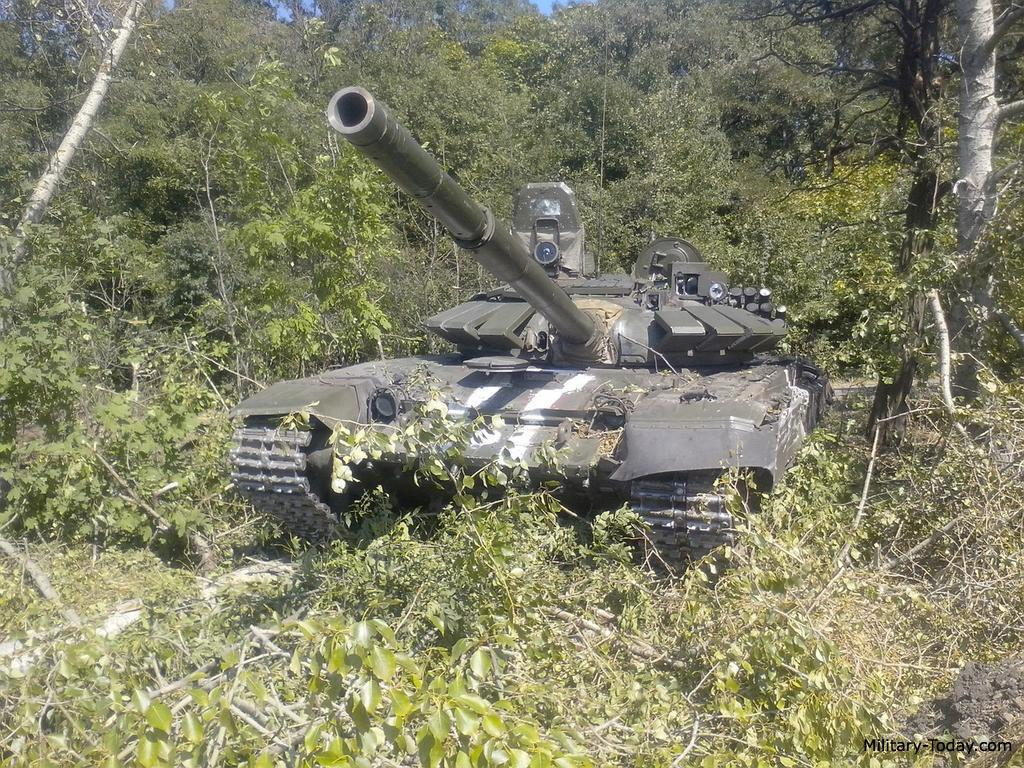tank: (230, 83, 837, 577)
